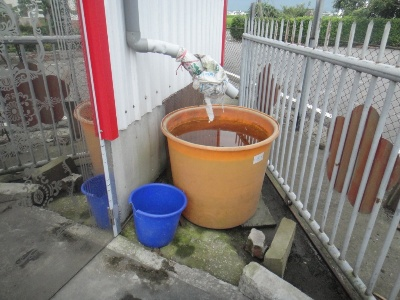bucket: (160, 103, 281, 230), (129, 183, 188, 250)
